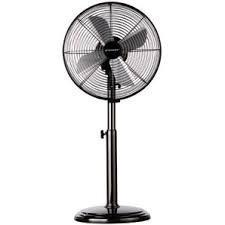fan: (60, 0, 156, 225)
